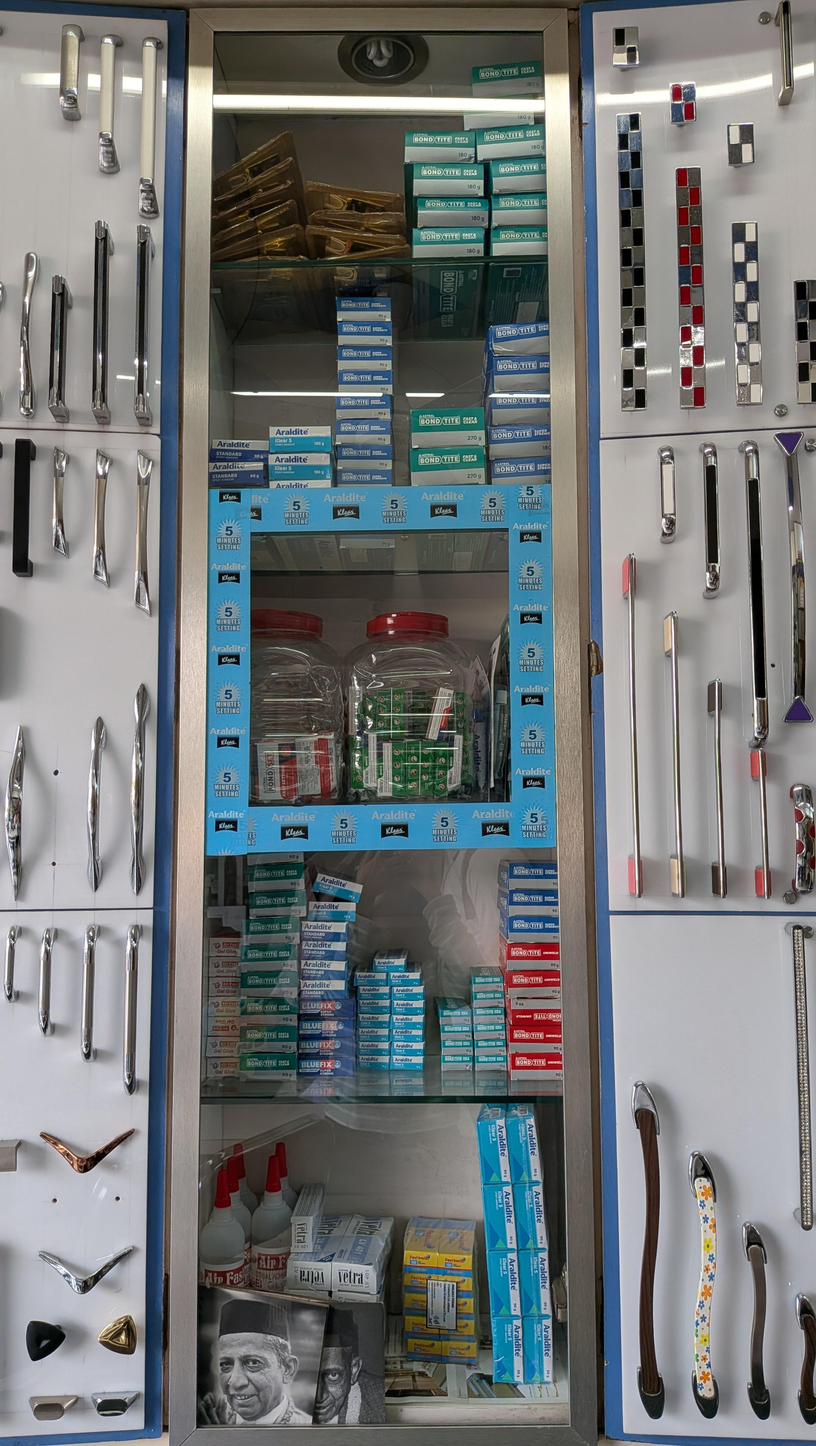BONDTITE_FAST - CLEAR: (410, 445, 486, 487), (410, 408, 485, 447), (406, 162, 484, 198), (476, 123, 544, 162), (472, 61, 542, 97), (412, 227, 484, 260), (415, 197, 488, 229), (404, 131, 475, 162), (491, 192, 546, 227), (489, 159, 545, 193), (490, 226, 547, 256), (248, 861, 305, 891), (242, 915, 300, 944), (240, 999, 298, 1026), (249, 890, 306, 917), (240, 1025, 297, 1052), (239, 1054, 296, 1081), (241, 971, 297, 998), (240, 945, 296, 971), (435, 995, 471, 1024), (471, 966, 504, 992), (441, 1024, 472, 1040), (474, 1024, 505, 1040), (474, 1040, 507, 1055), (441, 1055, 473, 1070), (473, 992, 505, 1007), (473, 1008, 505, 1023), (442, 1040, 473, 1055), (476, 1055, 507, 1070)
BONDTITE_SUPER STRENGTH: (483, 322, 549, 371), (484, 355, 549, 396), (488, 424, 550, 461), (498, 886, 558, 921), (486, 394, 549, 425), (498, 860, 557, 891), (500, 915, 559, 942), (338, 444, 394, 471), (491, 457, 551, 482), (337, 418, 392, 444), (339, 346, 394, 371), (338, 370, 395, 394), (336, 396, 392, 420), (336, 297, 392, 320), (338, 322, 394, 345), (336, 470, 392, 487)
Fevikwik_203: (404, 1217, 443, 1276), (438, 1218, 477, 1277), (443, 1342, 479, 1367), (408, 1339, 443, 1364)
VETRA_LV 401: (331, 1214, 395, 1295), (287, 1215, 354, 1292), (289, 1187, 324, 1252)
